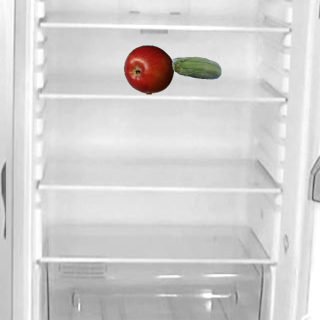Apple Braeburn: (123, 44, 173, 94)
Corn Husk: (171, 44, 221, 94)
